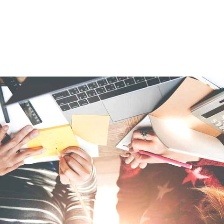news_paper: (112, 73, 224, 167), (18, 121, 82, 162), (69, 112, 112, 148)
